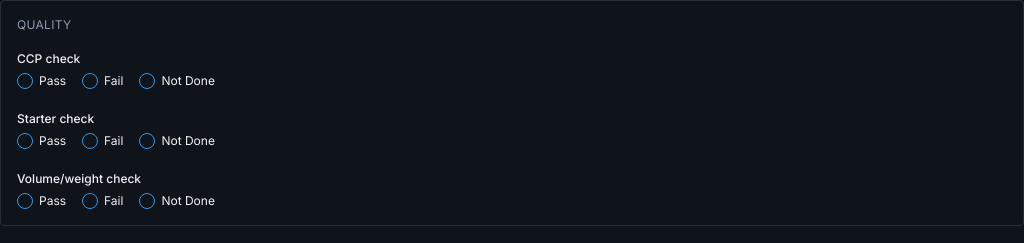
it: QualityPillar › reaches each option through its group's name alone — no id fallback needed
The image size is (1024, 243).
Click the 5th radio button named "Fail".
click(90, 141)  # box [82,133,98,149]
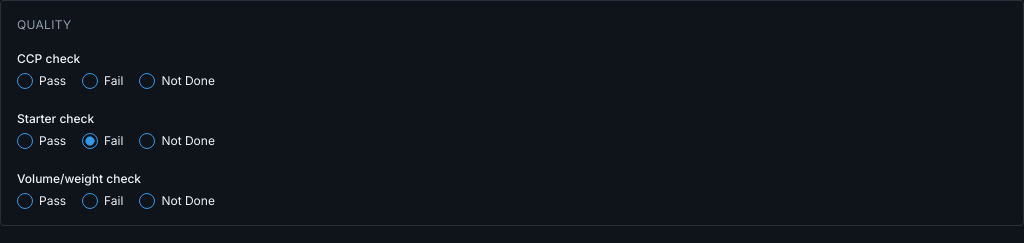
Expected: the 1st radio button is not checked, [17,73,33,89]
Now the 5th radio button named "Fail" is checked, box [82,133,98,149]
